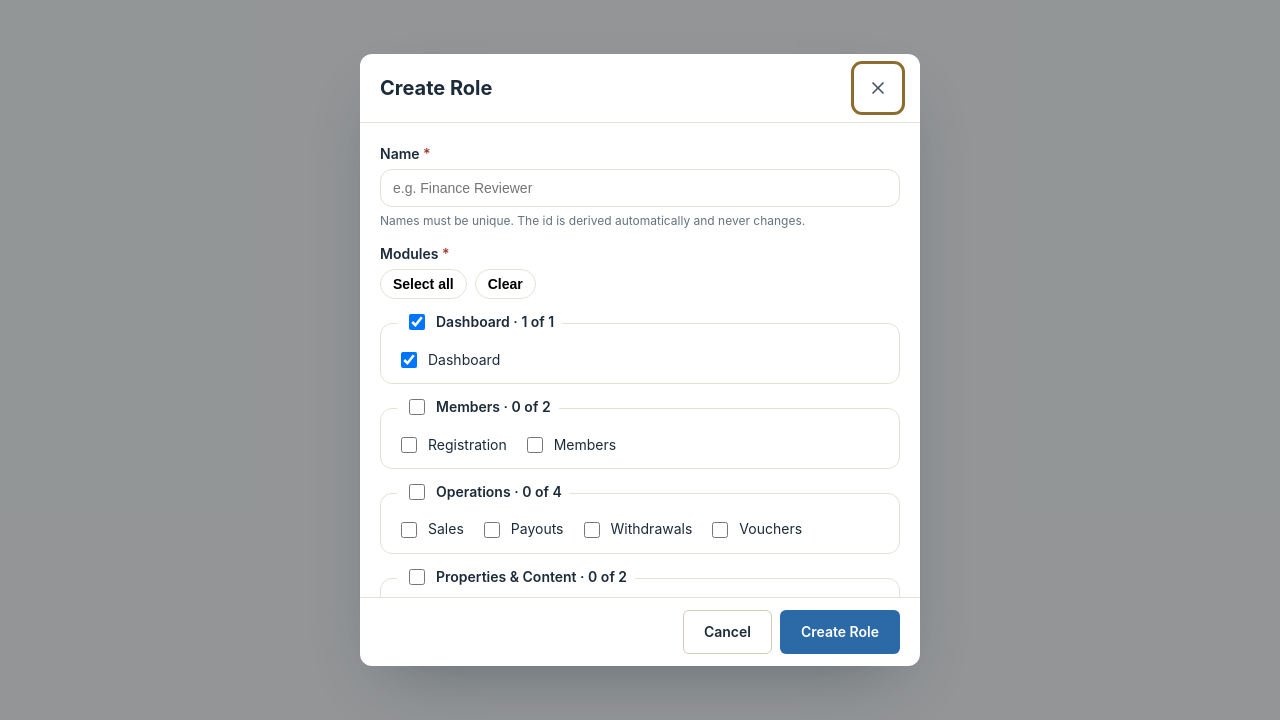
it: RoleFormDialog › surfaces duplicate-name errors from the store
The width and height of the screenshot is (1280, 720).
In the field named "Role name": (640, 188) [380,169,900,207], type "Admin"
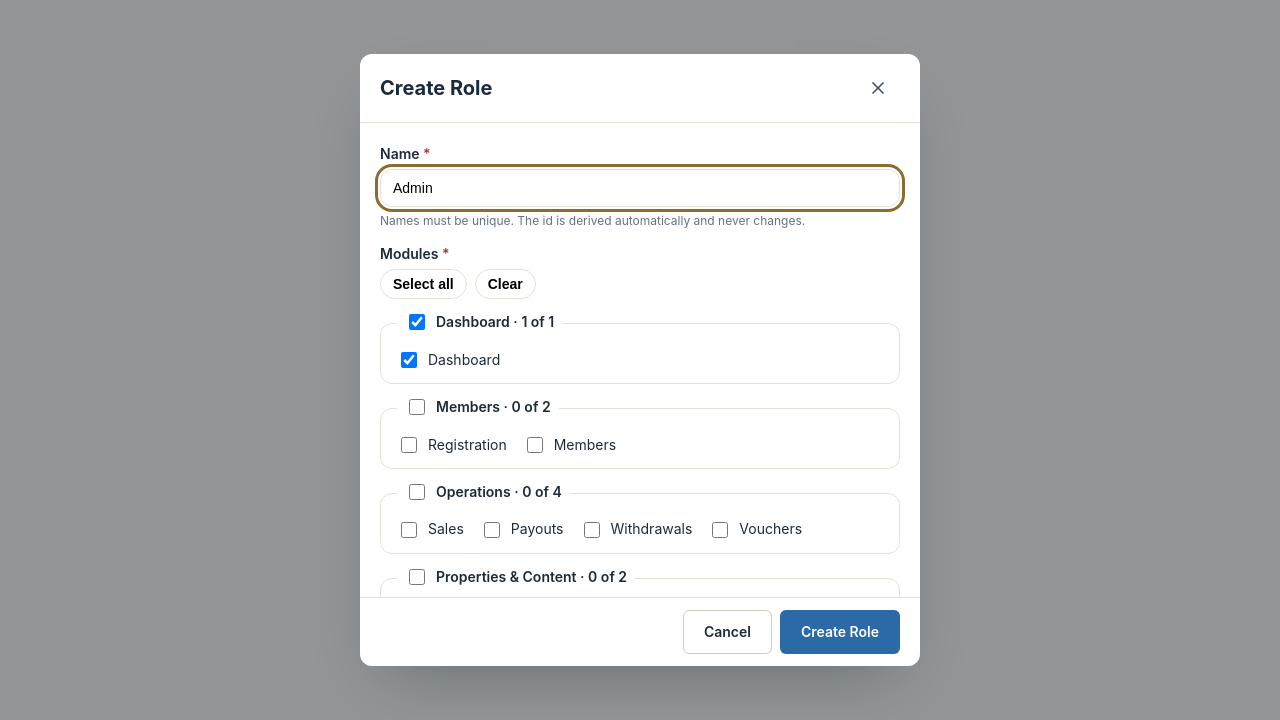
Click the button "Create Role": (840, 632) [780,610,900,654]
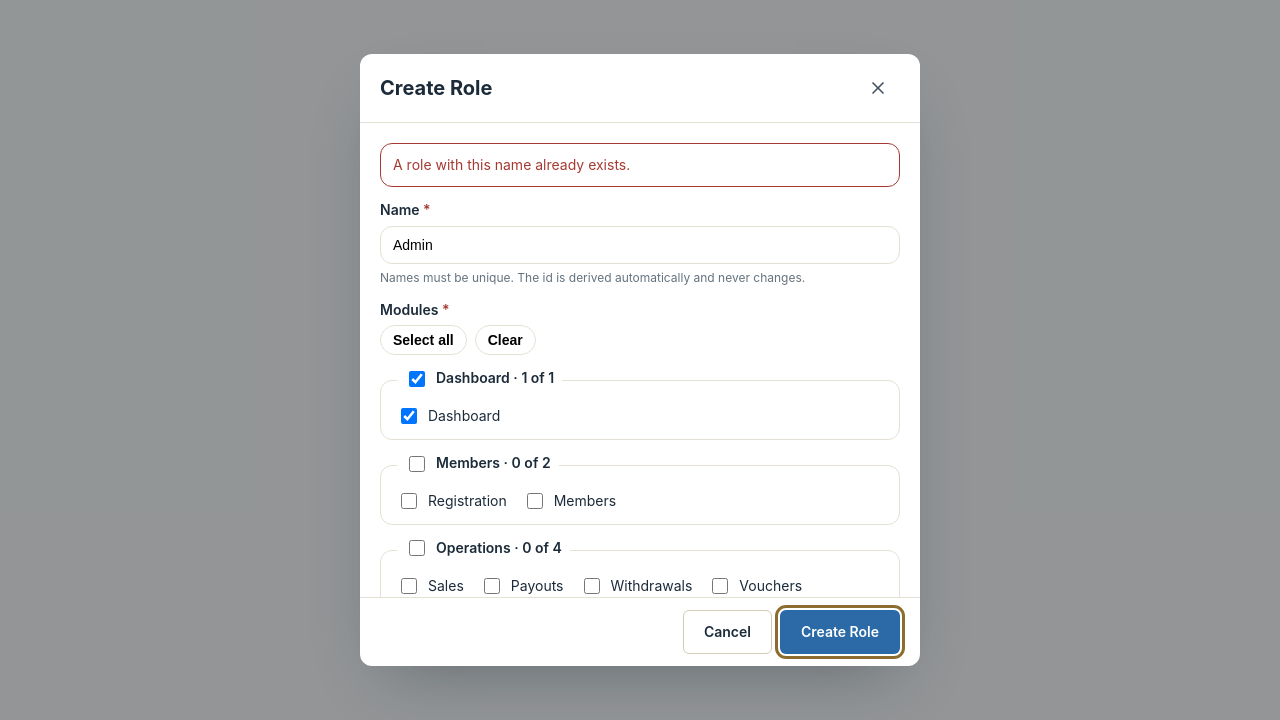
Now the text "A role with this name already exists." is shown, box [380,143,900,187]
